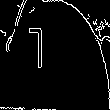L_S: (47, 29, 63, 81)
